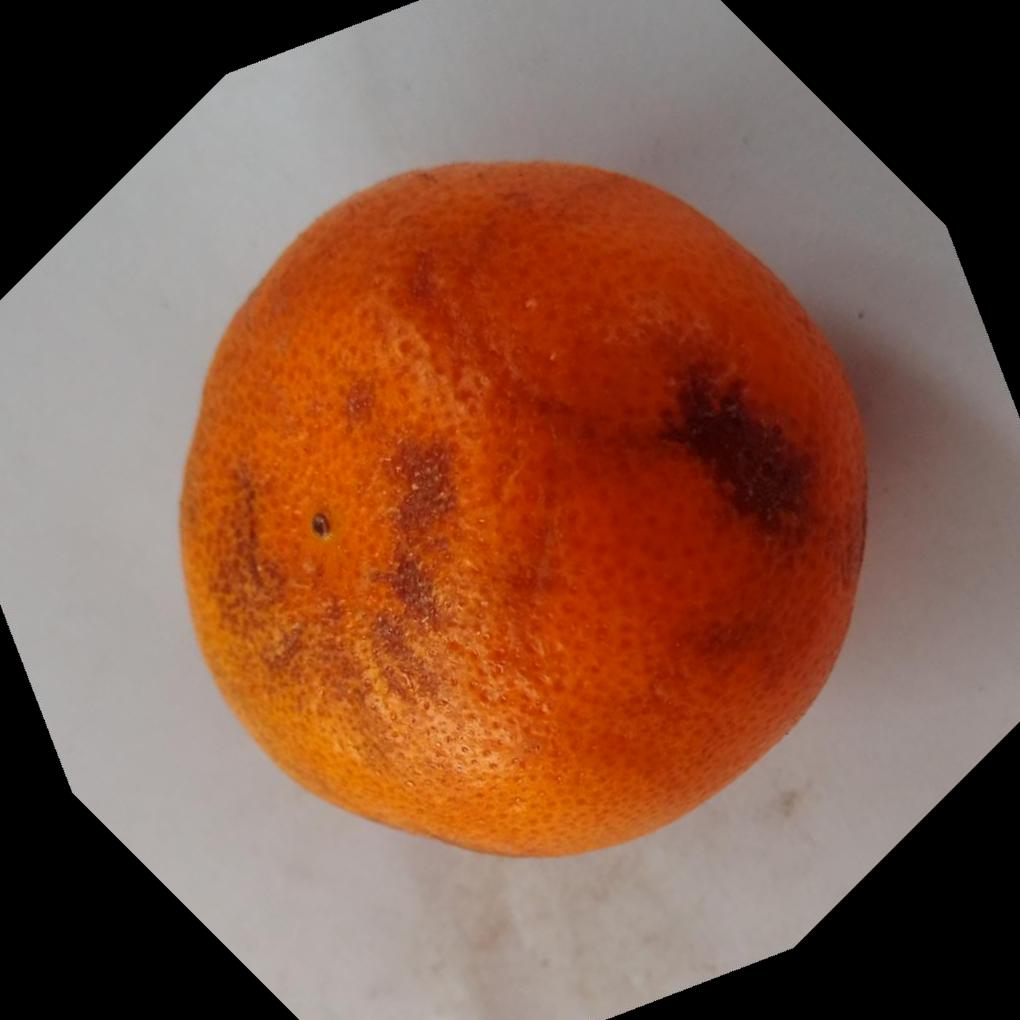FreshOrange: (177, 154, 872, 859)
